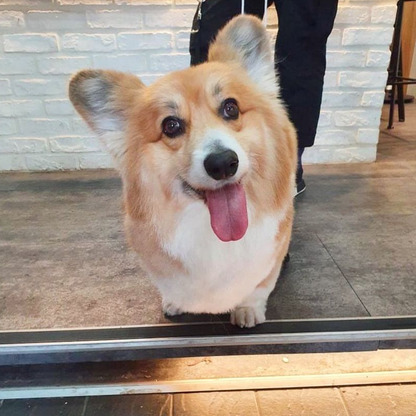Corgi: (59, 22, 306, 324)
